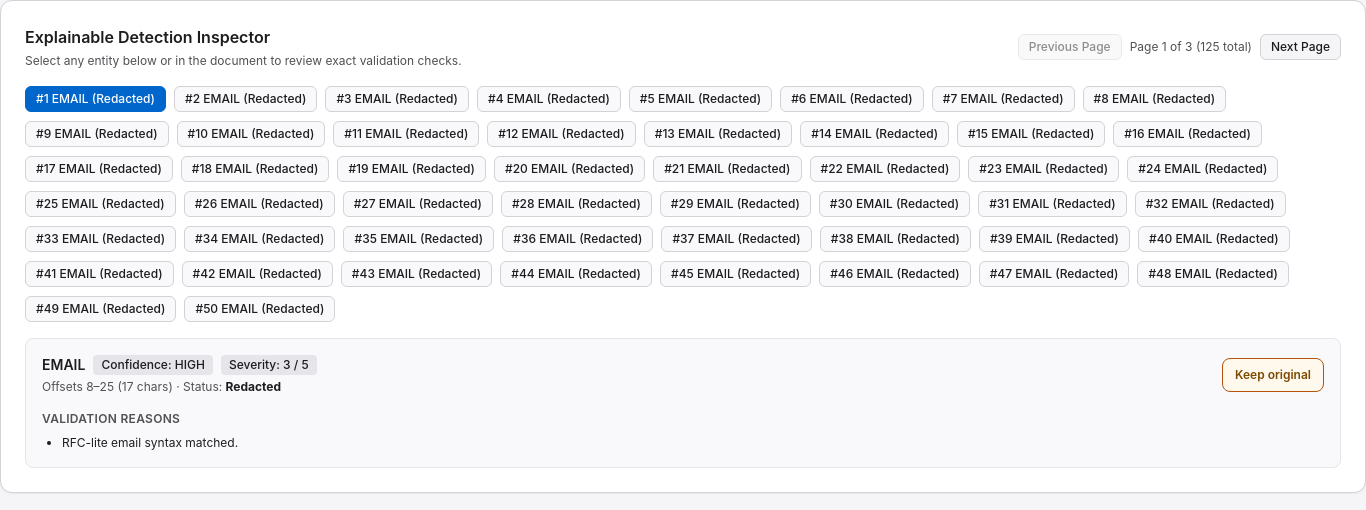
Test case: High-density UI pagination › preserves kept and restored detection state across page changes without omissions or duplicates
Click the button "Next Page": (1300, 47) [1260,34,1341,60]
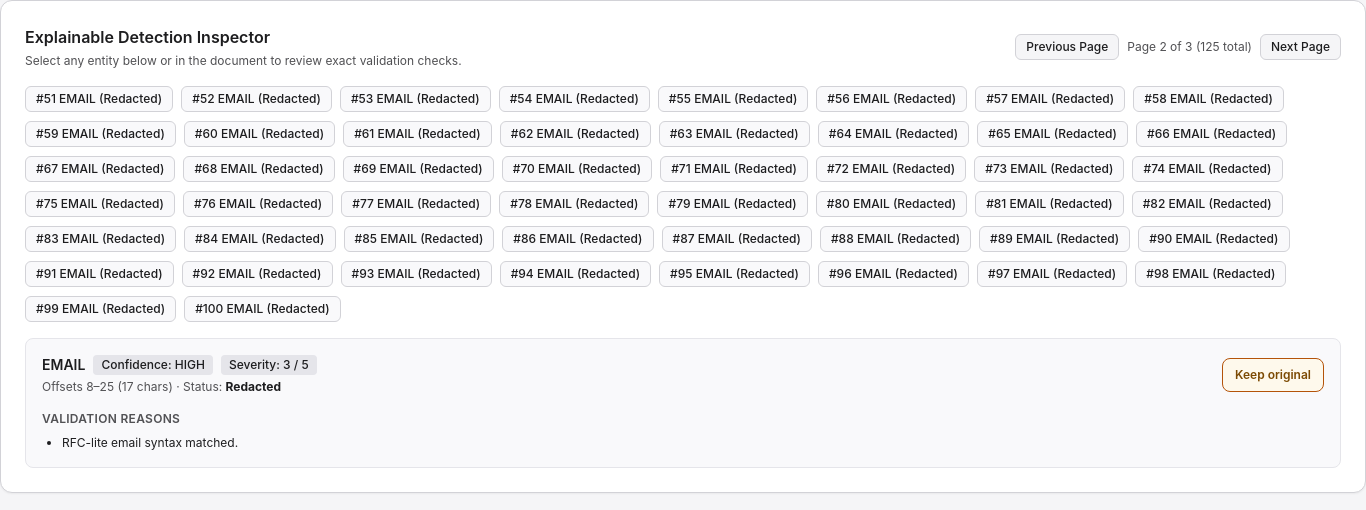
Click the button "#55 EMAIL (Redacted)": (733, 99) [658,86,808,112]
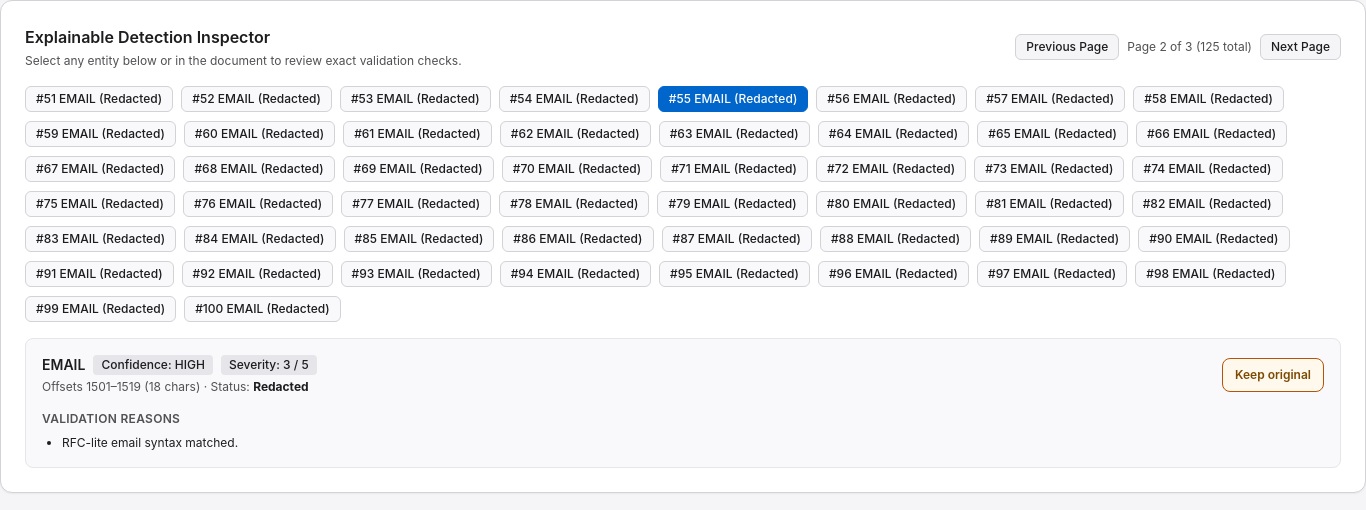
Click the button "Keep original": (1273, 375) [1222,358,1324,392]
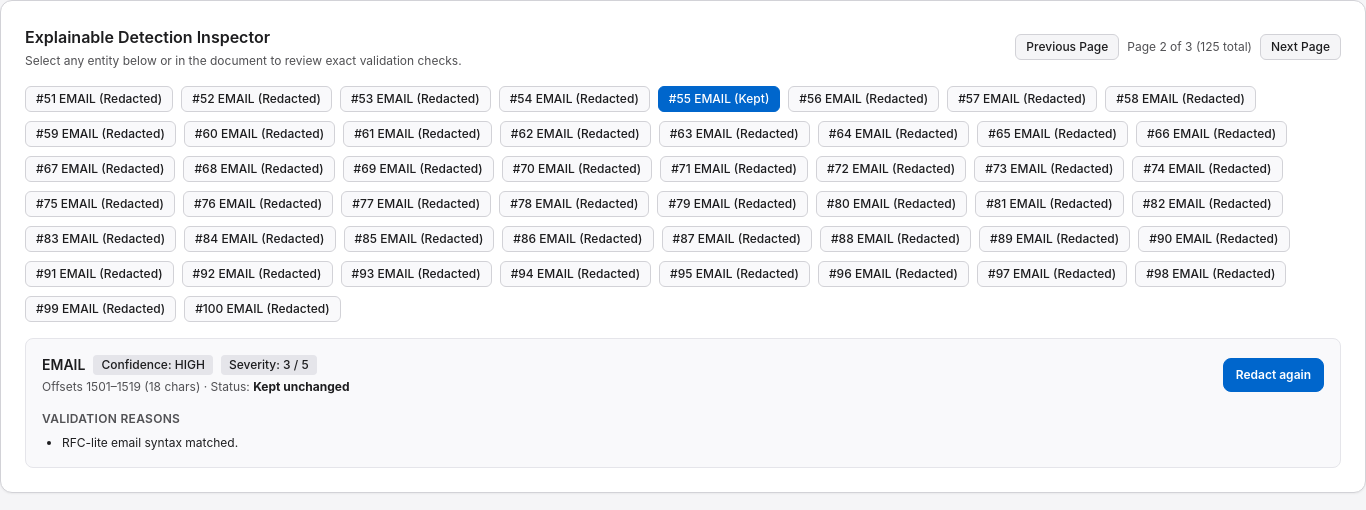
Click the button "Next Page": (1300, 47) [1260,34,1341,60]
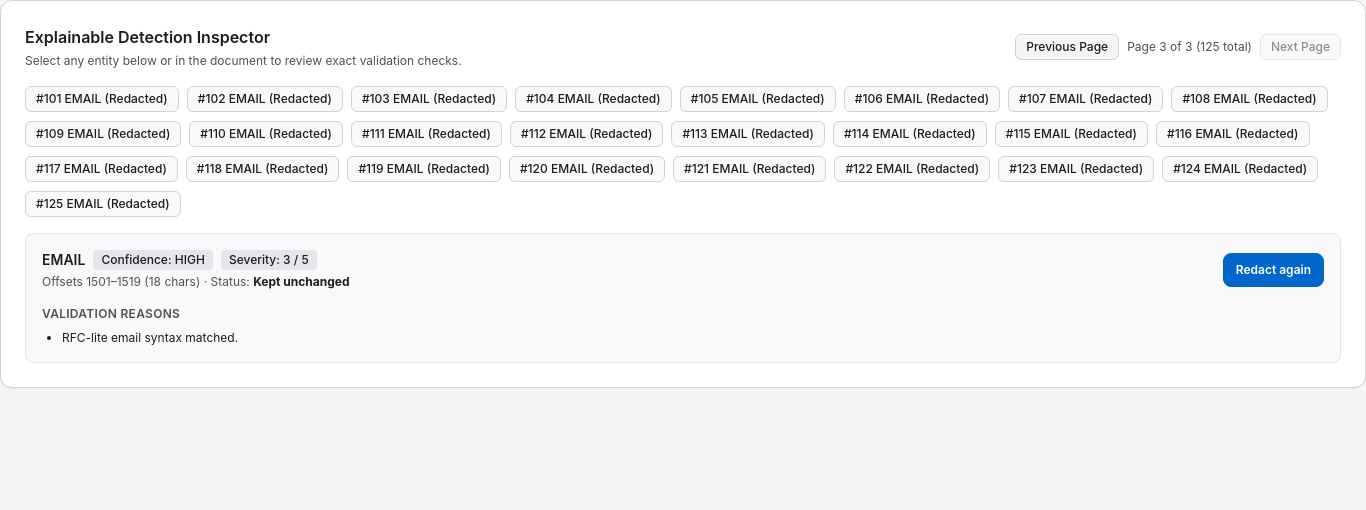
Click the button "Previous Page": (1067, 47) [1015,34,1119,60]
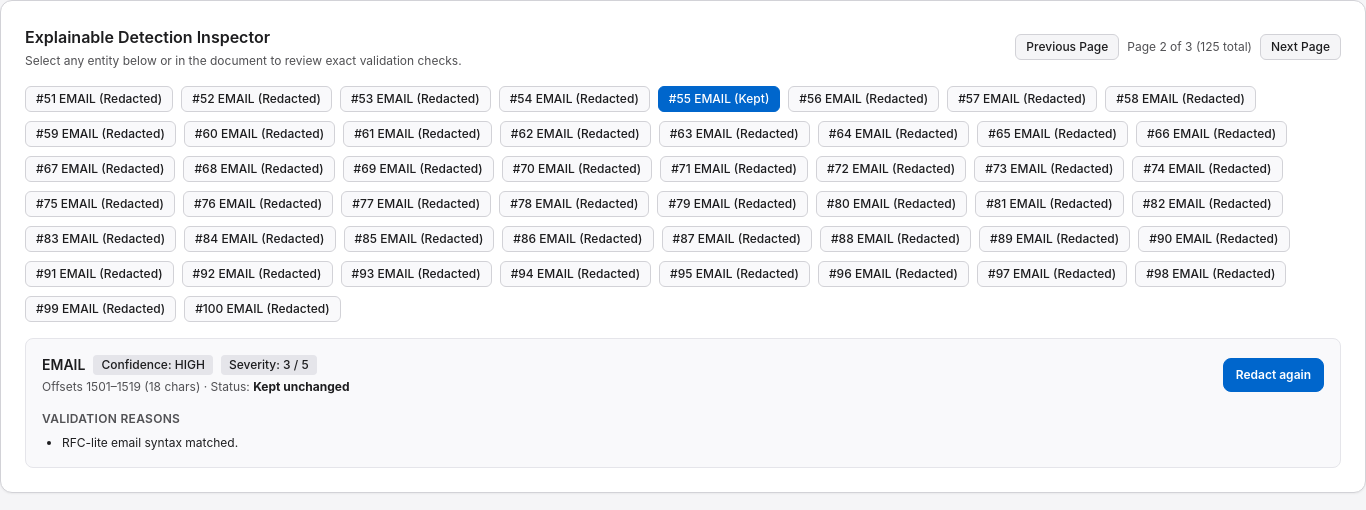
Check: the button "#55 EMAIL (Kept)" is shown, box [658,86,780,112]
Click the button "Redact again": (1273, 375) [1223,358,1324,392]
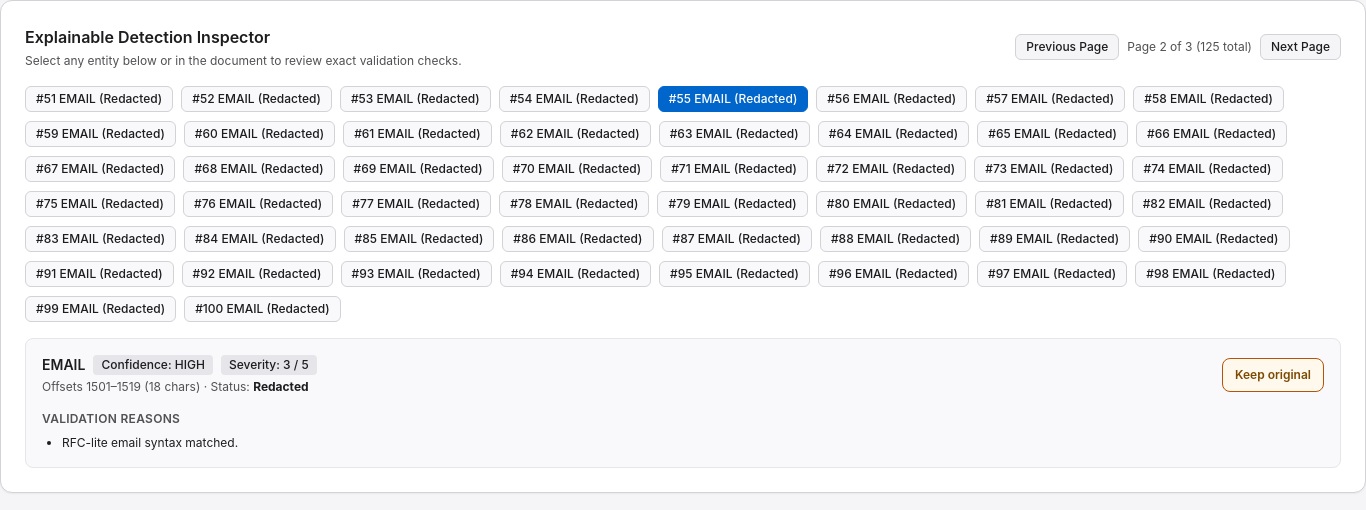
Check: the button "#55 EMAIL (Redacted)" is shown, box [658,86,808,112]
